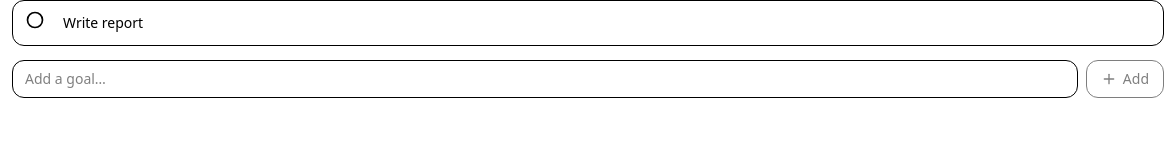
it: GoalsList - Due dates › exposes the due-date control while editing a task
This screenshot has width=1176, height=160.
Click the button "Write report".
click(103, 22)  # box [55,9,1141,37]
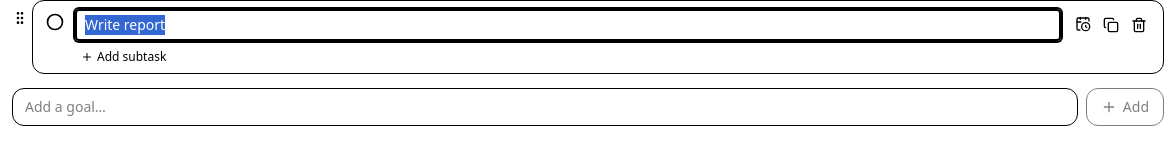
Check: the button named "Set due date" is shown, box [1071,12,1095,36]
